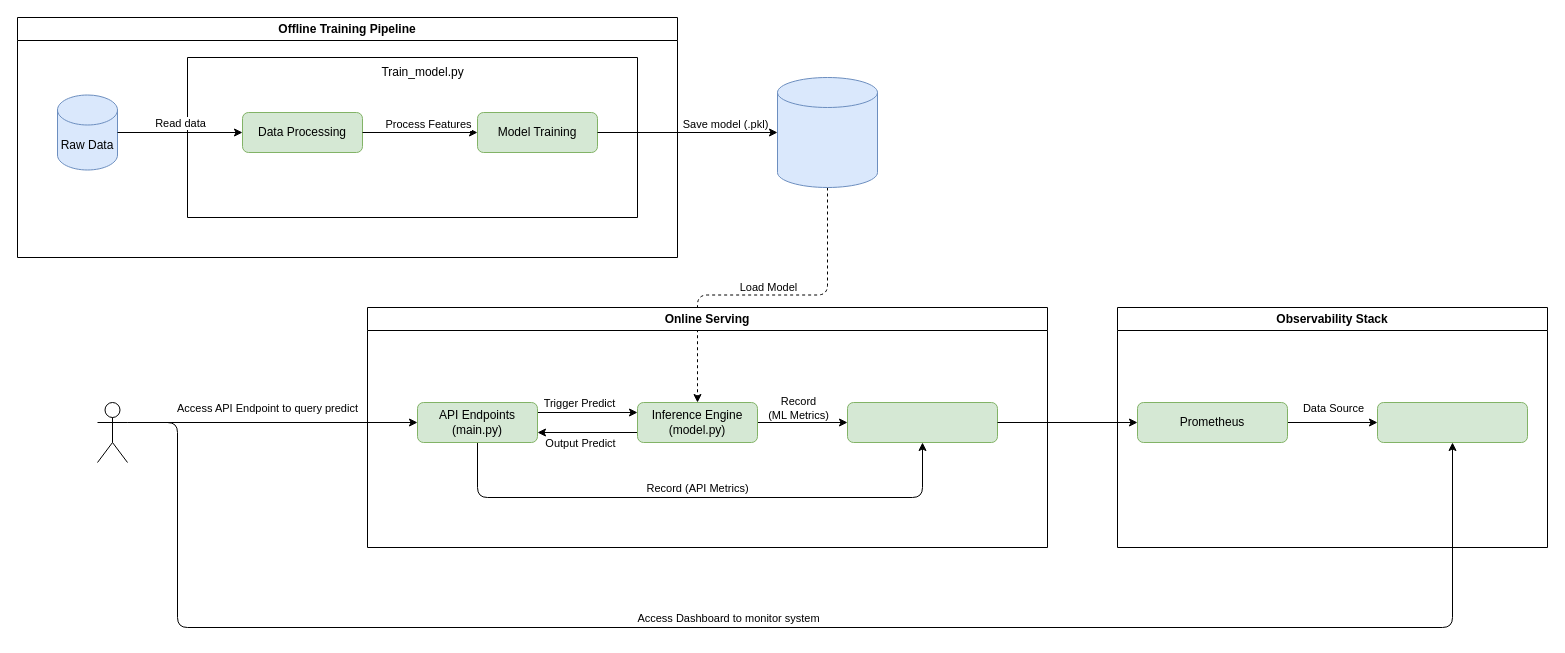
Some shapes in this 1565 by 653 pixel diagram are drawn without their labels. The centre of each missing label's shape, as x and y in pixels:
"<<File System>> Local Storage Volume: /model" belongs at point (827, 132).
"Grafana (Dashboards)" belongs at point (1452, 422).
"Intrumentation (metrics.py & middleware)" belongs at point (922, 422).
"User" belongs at point (112, 432).
